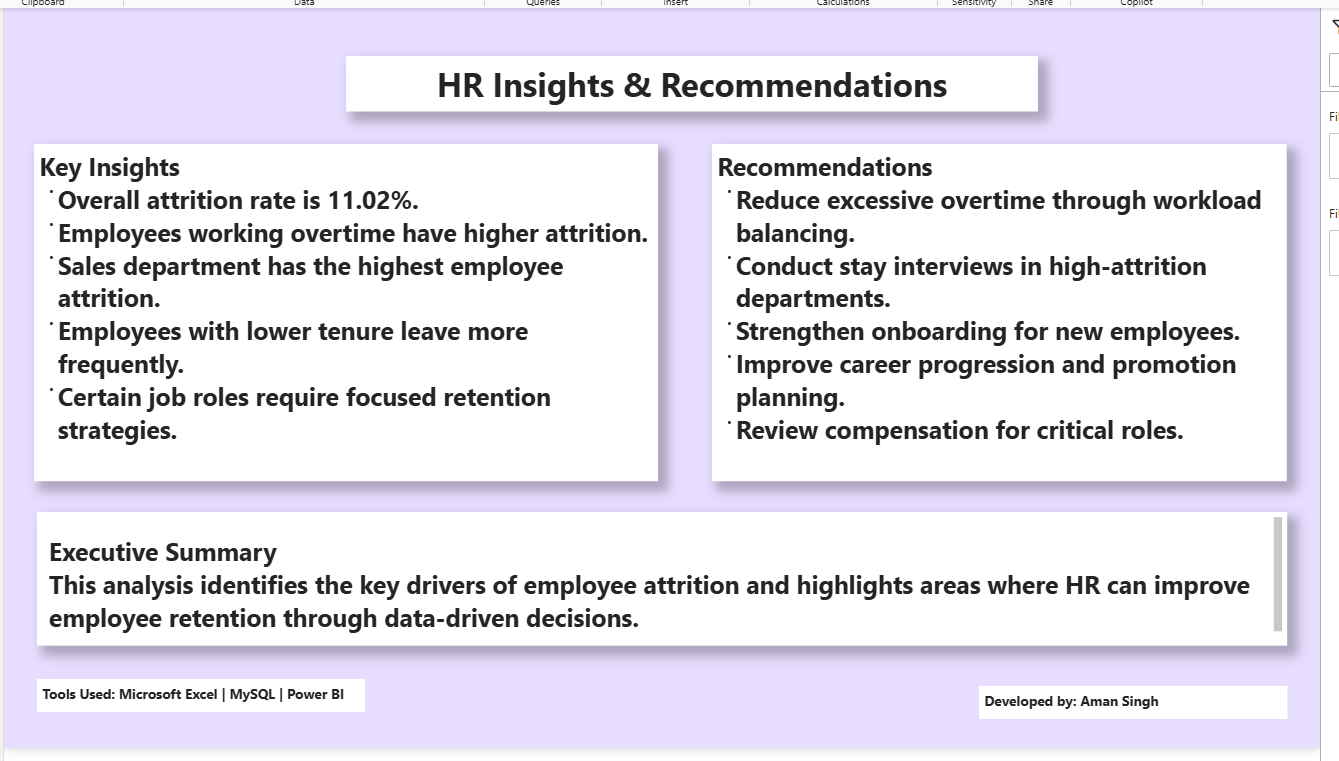

Layout of this report page (visuals, bound fields, positions):
{"tool":"powerbi","page":{"name":"Page 2","canvas":[1280,720],"ordinal":1},"visuals":[{"type":"textbox","box":[332.6,46.7,673.1,54.5],"z":0},{"type":"textbox","box":[29.2,132.3,606.9,327.8],"z":1000},{"type":"textbox","box":[688.6,132.3,559.3,327.8],"z":2000},{"type":"textbox","box":[32.1,490.2,1215.8,130.3],"z":2001},{"type":"textbox","box":[32.1,652.6,319,32.1],"z":2002},{"type":"textbox","box":[948.3,659.5,299.6,32.1],"z":2003}]}

Visuals, with their boxes on the page's 1280x720 design canvas (x1, y1, x2, y2). These are canvas units, not pixel positions in the 1339x761 screenshot, which may show the page scaled, cropped or inside an application window:
textbox: 333/47/1006/101
textbox: 29/132/636/460
textbox: 689/132/1248/460
textbox: 32/490/1248/620
textbox: 32/653/351/685
textbox: 948/660/1248/692
